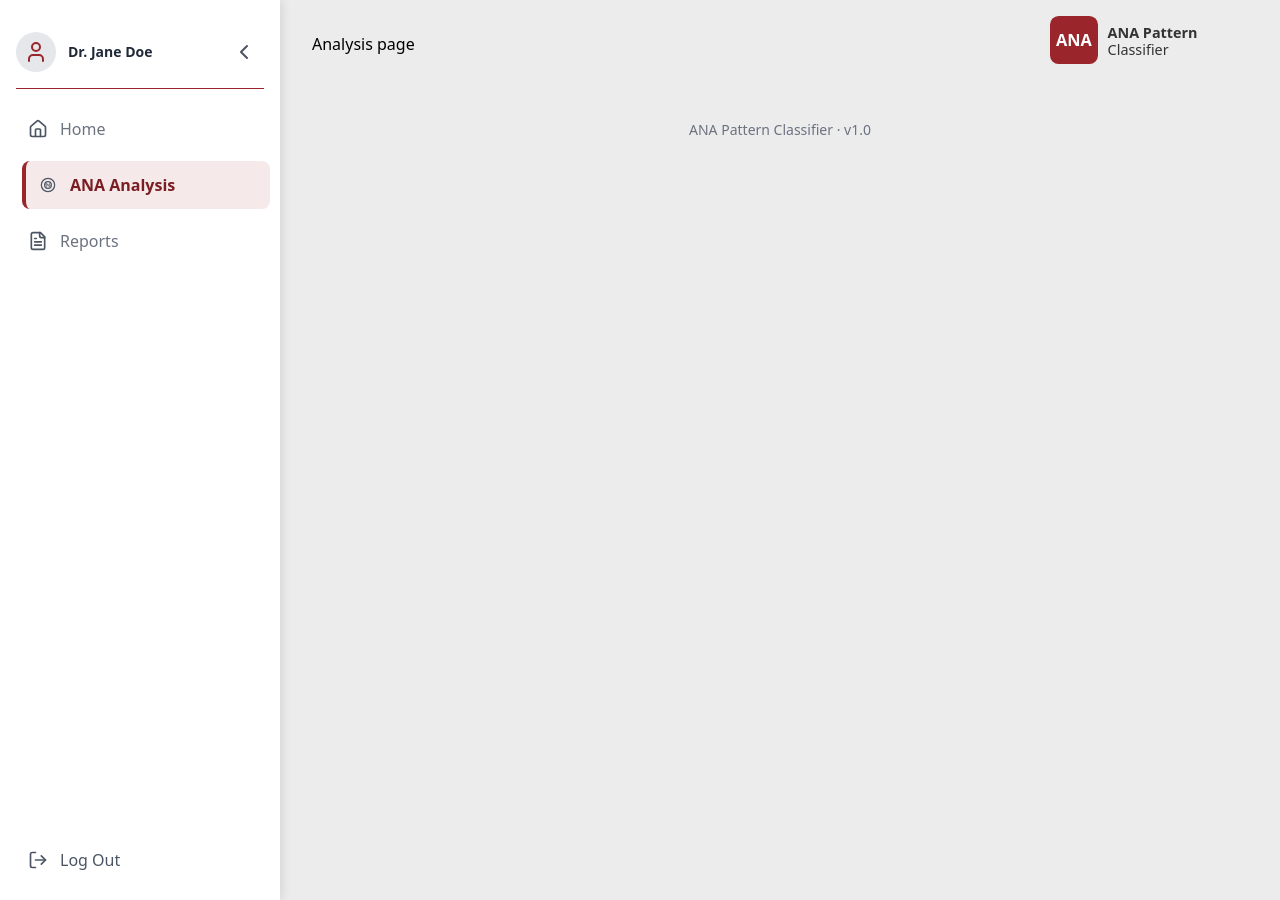
it: DashboardLayout › guards the menu for pages that hold unsaved work
The image size is (1280, 900).
Click the link "Home" at {"x": 67, "y": 129}, box [28,118,106,140]
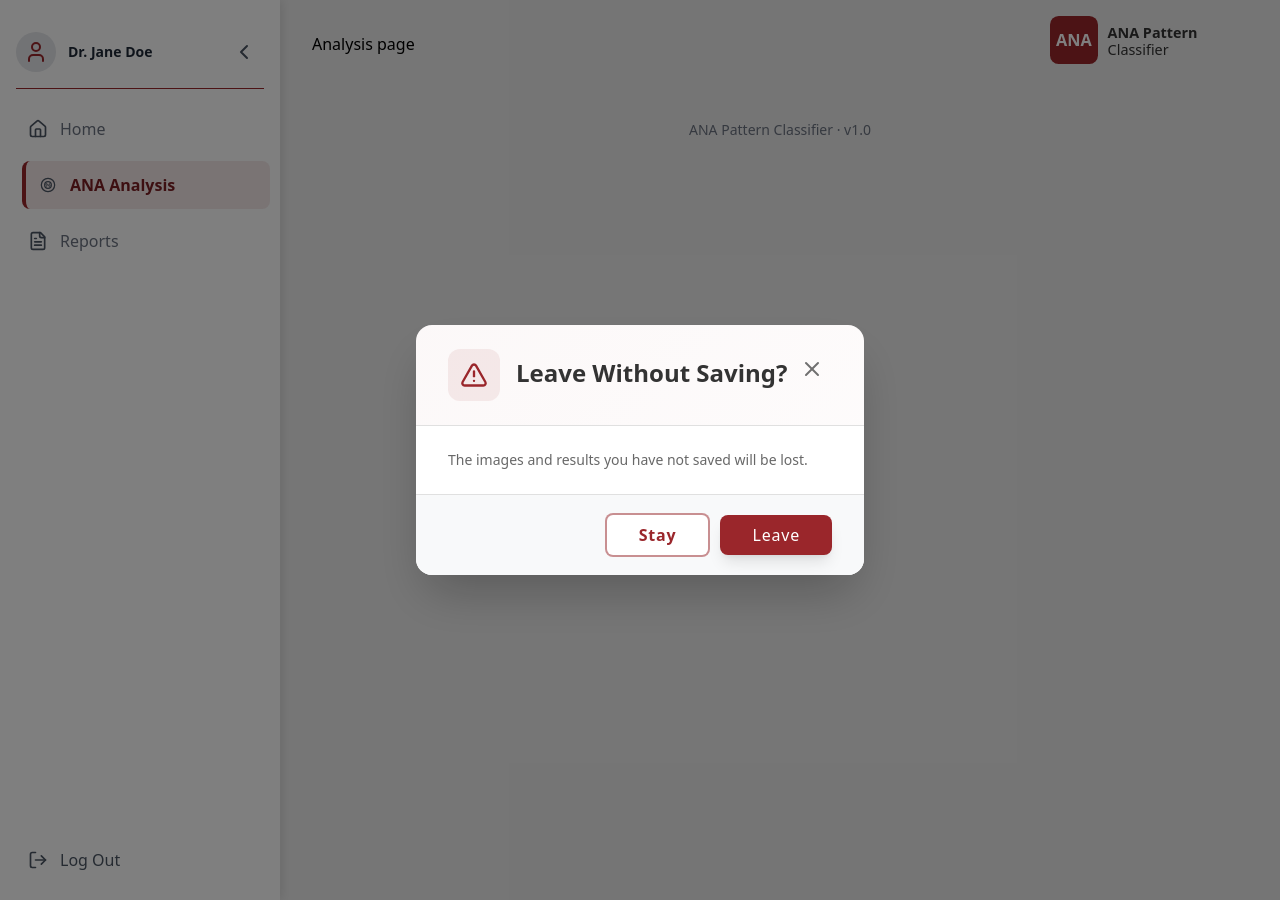
expect the text "Analysis page" is shown: met, box [312,33,415,55]
expect the dialog "Leave Without Saving?" is shown: met, box [416,325,864,575]
